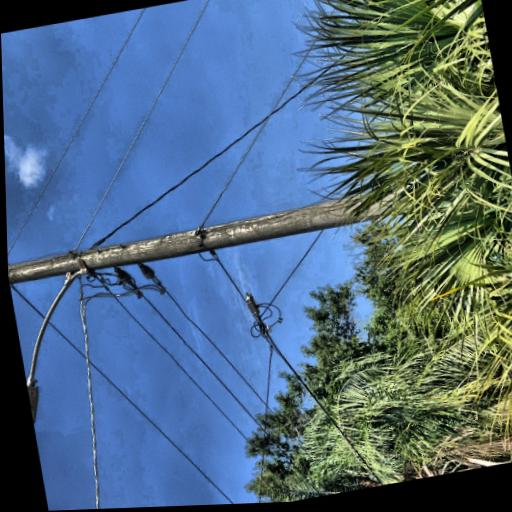pole: (117, 98, 211, 508)
street light: (3, 106, 149, 238)
